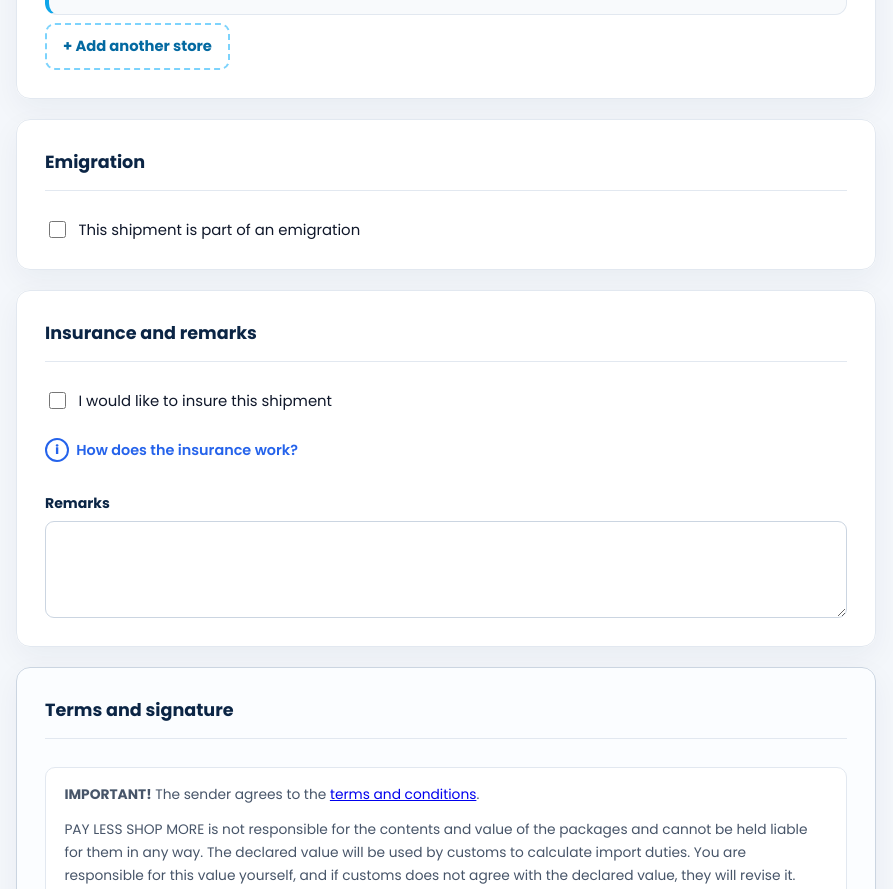
Test: booking: insurance terms › are one tap away, and closed until asked for
This screenshot has width=893, height=889.
(page scrolled)
Click the button "i How does the insurance work?" at (172, 450), box [45,428,298,472]
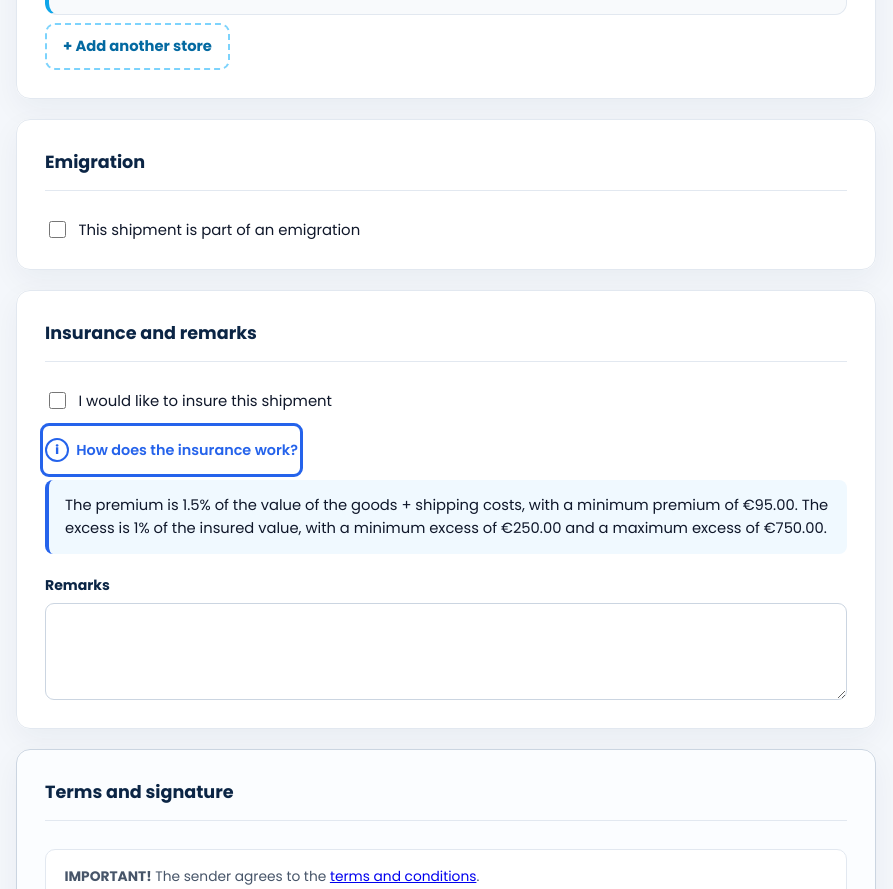
Expected: the text "The premium is 1.5% of the value of the goods + shipping costs, with a minimum premium of €95.00. The excess is 1% of the insured value, with a minimum excess o" is shown, [65,495,828,538]
Click the button "i How does the insurance work?" at (172, 450), box [45,428,298,472]
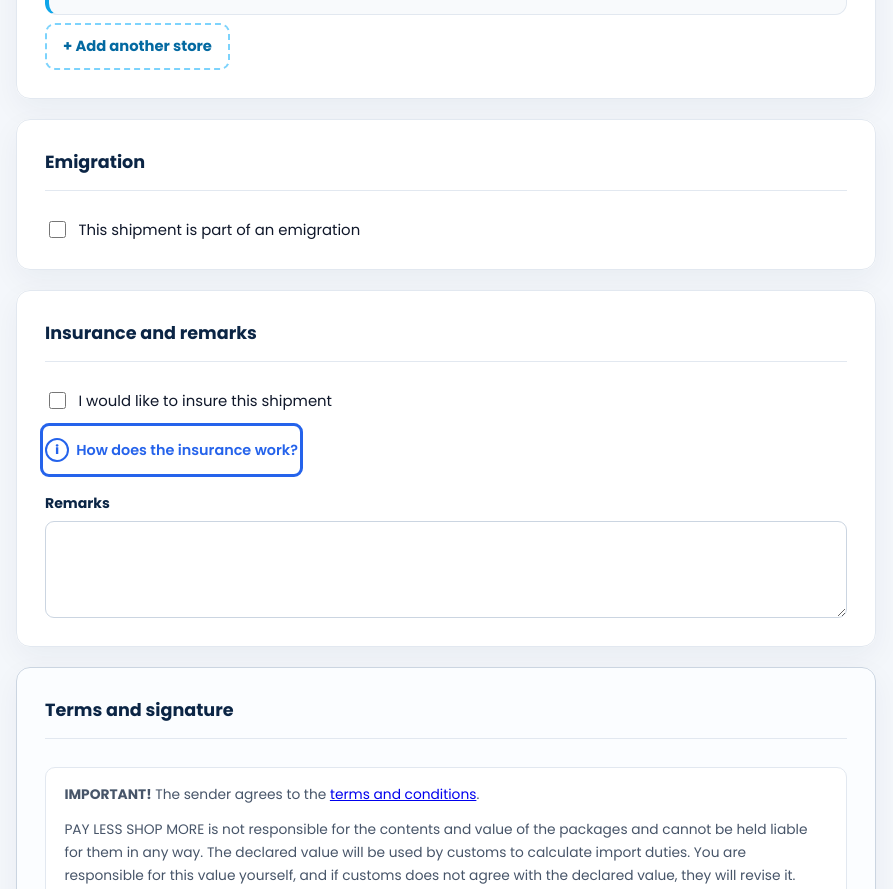
Expected: the text "The premium is 1.5% of the value of the goods + shipping costs, with a minimum premium of €95.00. The excess is 1% of th" is gone
